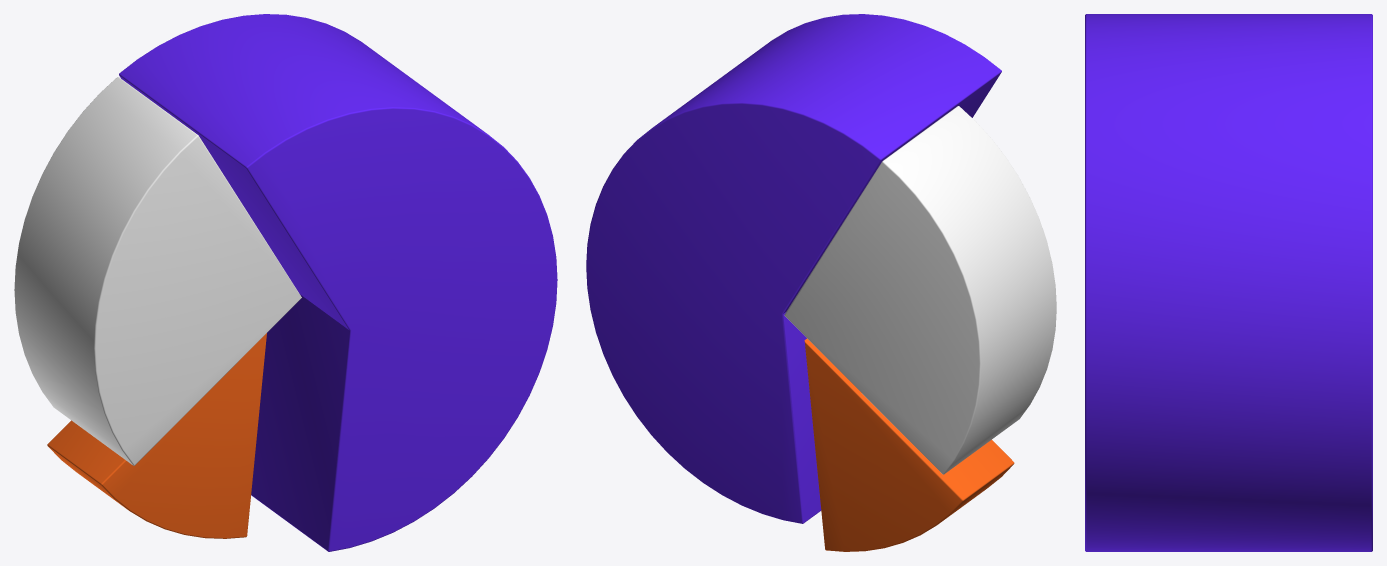
The model's file is chart.glb.
3 renders of one model, left to right at view 1: azimuth 30°, elevation 25°; view 2: azimuth 150°, elevation 25°; view 3: azimuth 270°, elevation 25°, orthographic. The views are drawn at different scales.
Parts seen in each view (by area): view 1: Cylinder.001; view 2: Cylinder.001; view 3: Cylinder.001.
Boxes of the visible parts, bbox=[...] form: Cylinder.001: bbox=[14, 14, 557, 551]; Cylinder.001: bbox=[586, 14, 1056, 551]; Cylinder.001: bbox=[1085, 14, 1372, 551].
Size of the model in its own units: 1.67 by 1.77 by 0.8906.
